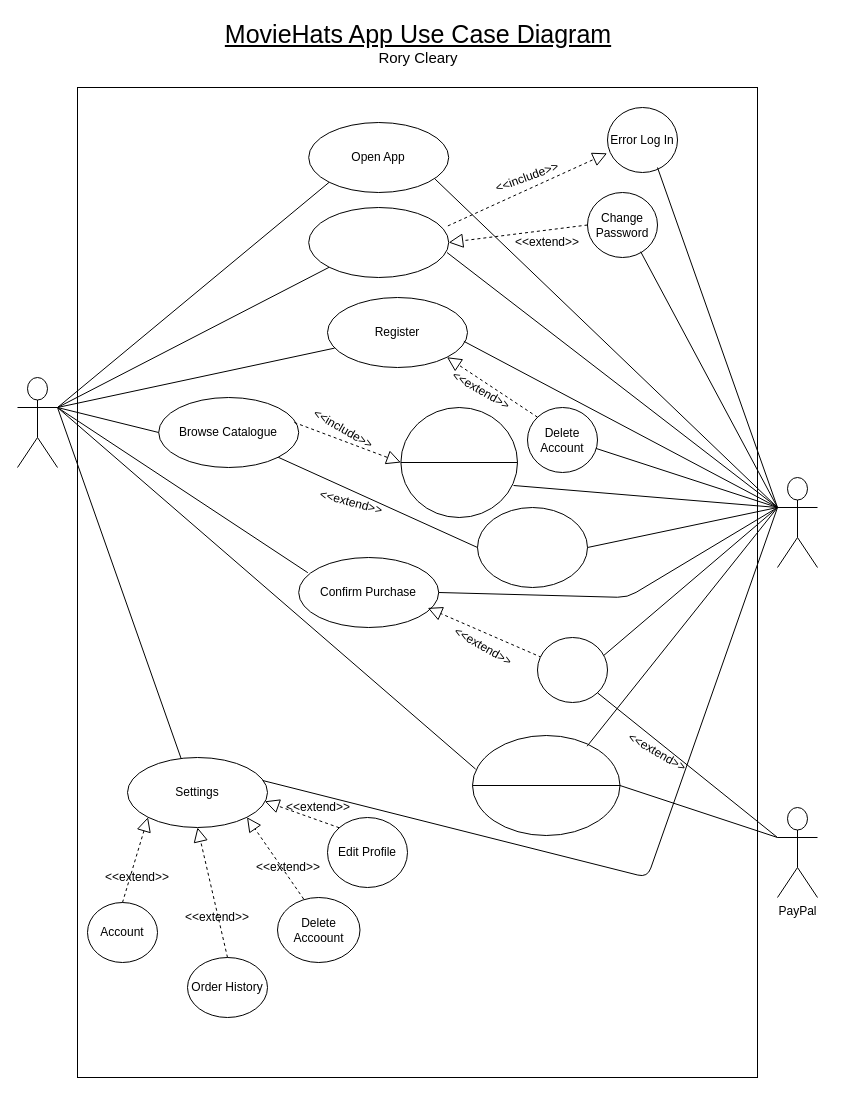
The diagram is 843 pixels wide and 1095 high, and some of its shapes have lost their labels. The shapes that lost their labels are listed below. From the top down, each one's box as (x1, y1, x2, y2) in pixels, then its label:
(308, 206, 449, 278): Log In
(16, 376, 58, 468): User
(400, 406, 518, 518): Add to Cart Remove from Cart
(776, 476, 818, 568): movieHats App
(476, 506, 588, 588): Continue Shopping
(536, 636, 608, 702): Payment
(472, 734, 620, 836): Secure Data Encrypt Data
